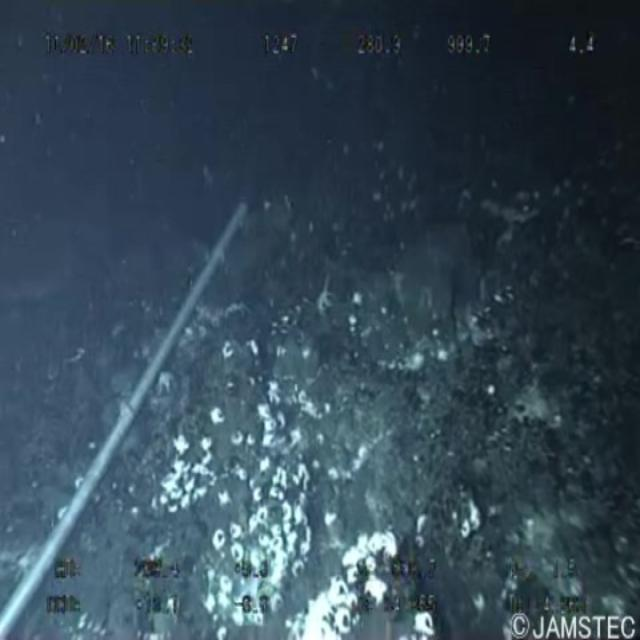Metal: (0, 162, 242, 640)
